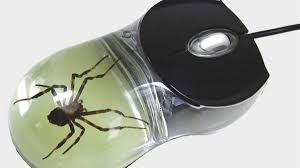mouse: (16, 0, 268, 168)
